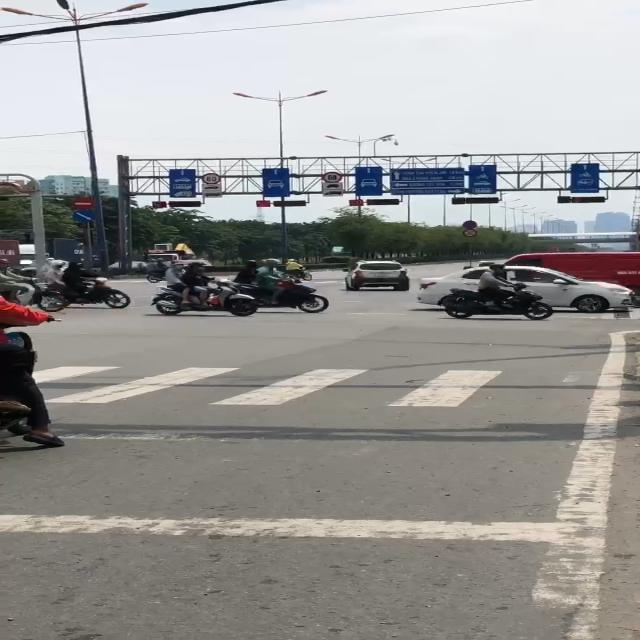Bien bao cam di nguoc chieu: (72, 197, 97, 210)
Bien bao huong phai di vong chuong ngai vat: (72, 210, 95, 223)
Bien bao toc do toi da cho phep: (320, 171, 345, 184), (200, 172, 223, 184)
